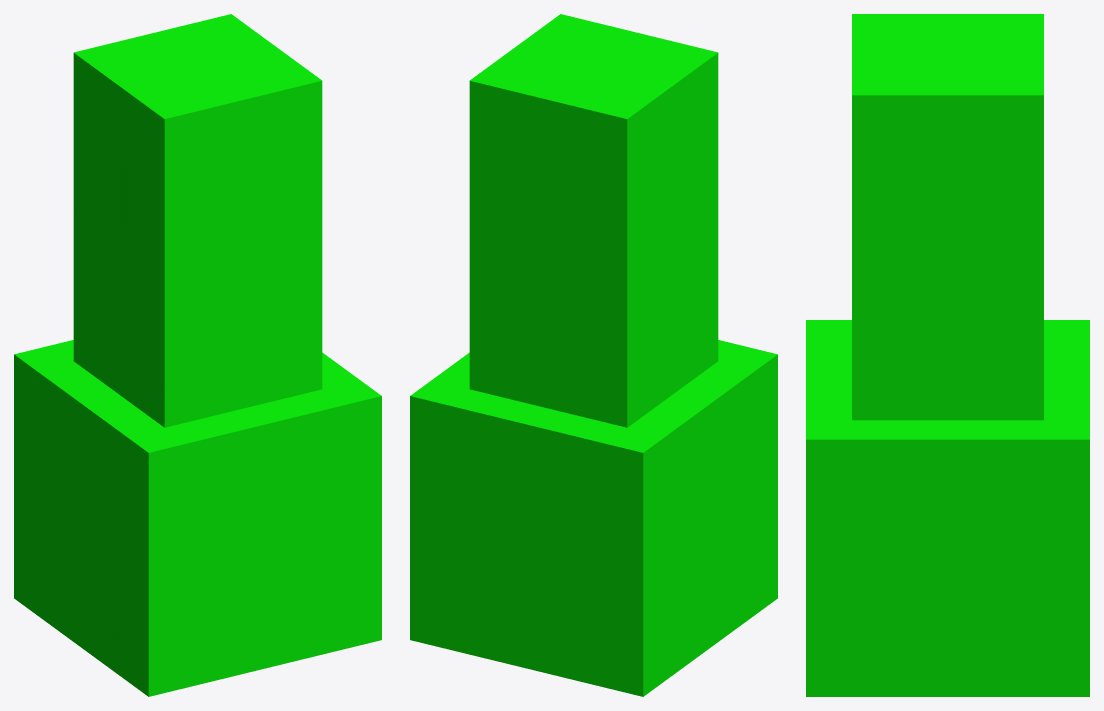
File: testObj.obj
The picture shows the model from 3 angles, left to right: view 1: azimuth 30°, elevation 25°; view 2: azimuth 150°, elevation 25°; view 3: azimuth 270°, elevation 25°; orthographic projection. The views are drawn at different scales.
Visible parts, largest first — view 1: Cube; view 2: Cube; view 3: Cube.
Boxes of the visible parts, box(x1,y1,x2,y2) form: Cube: box(14, 14, 381, 696); Cube: box(410, 14, 777, 696); Cube: box(806, 14, 1089, 696).
Size of the model in its own units: 2 by 4.53 by 2.
